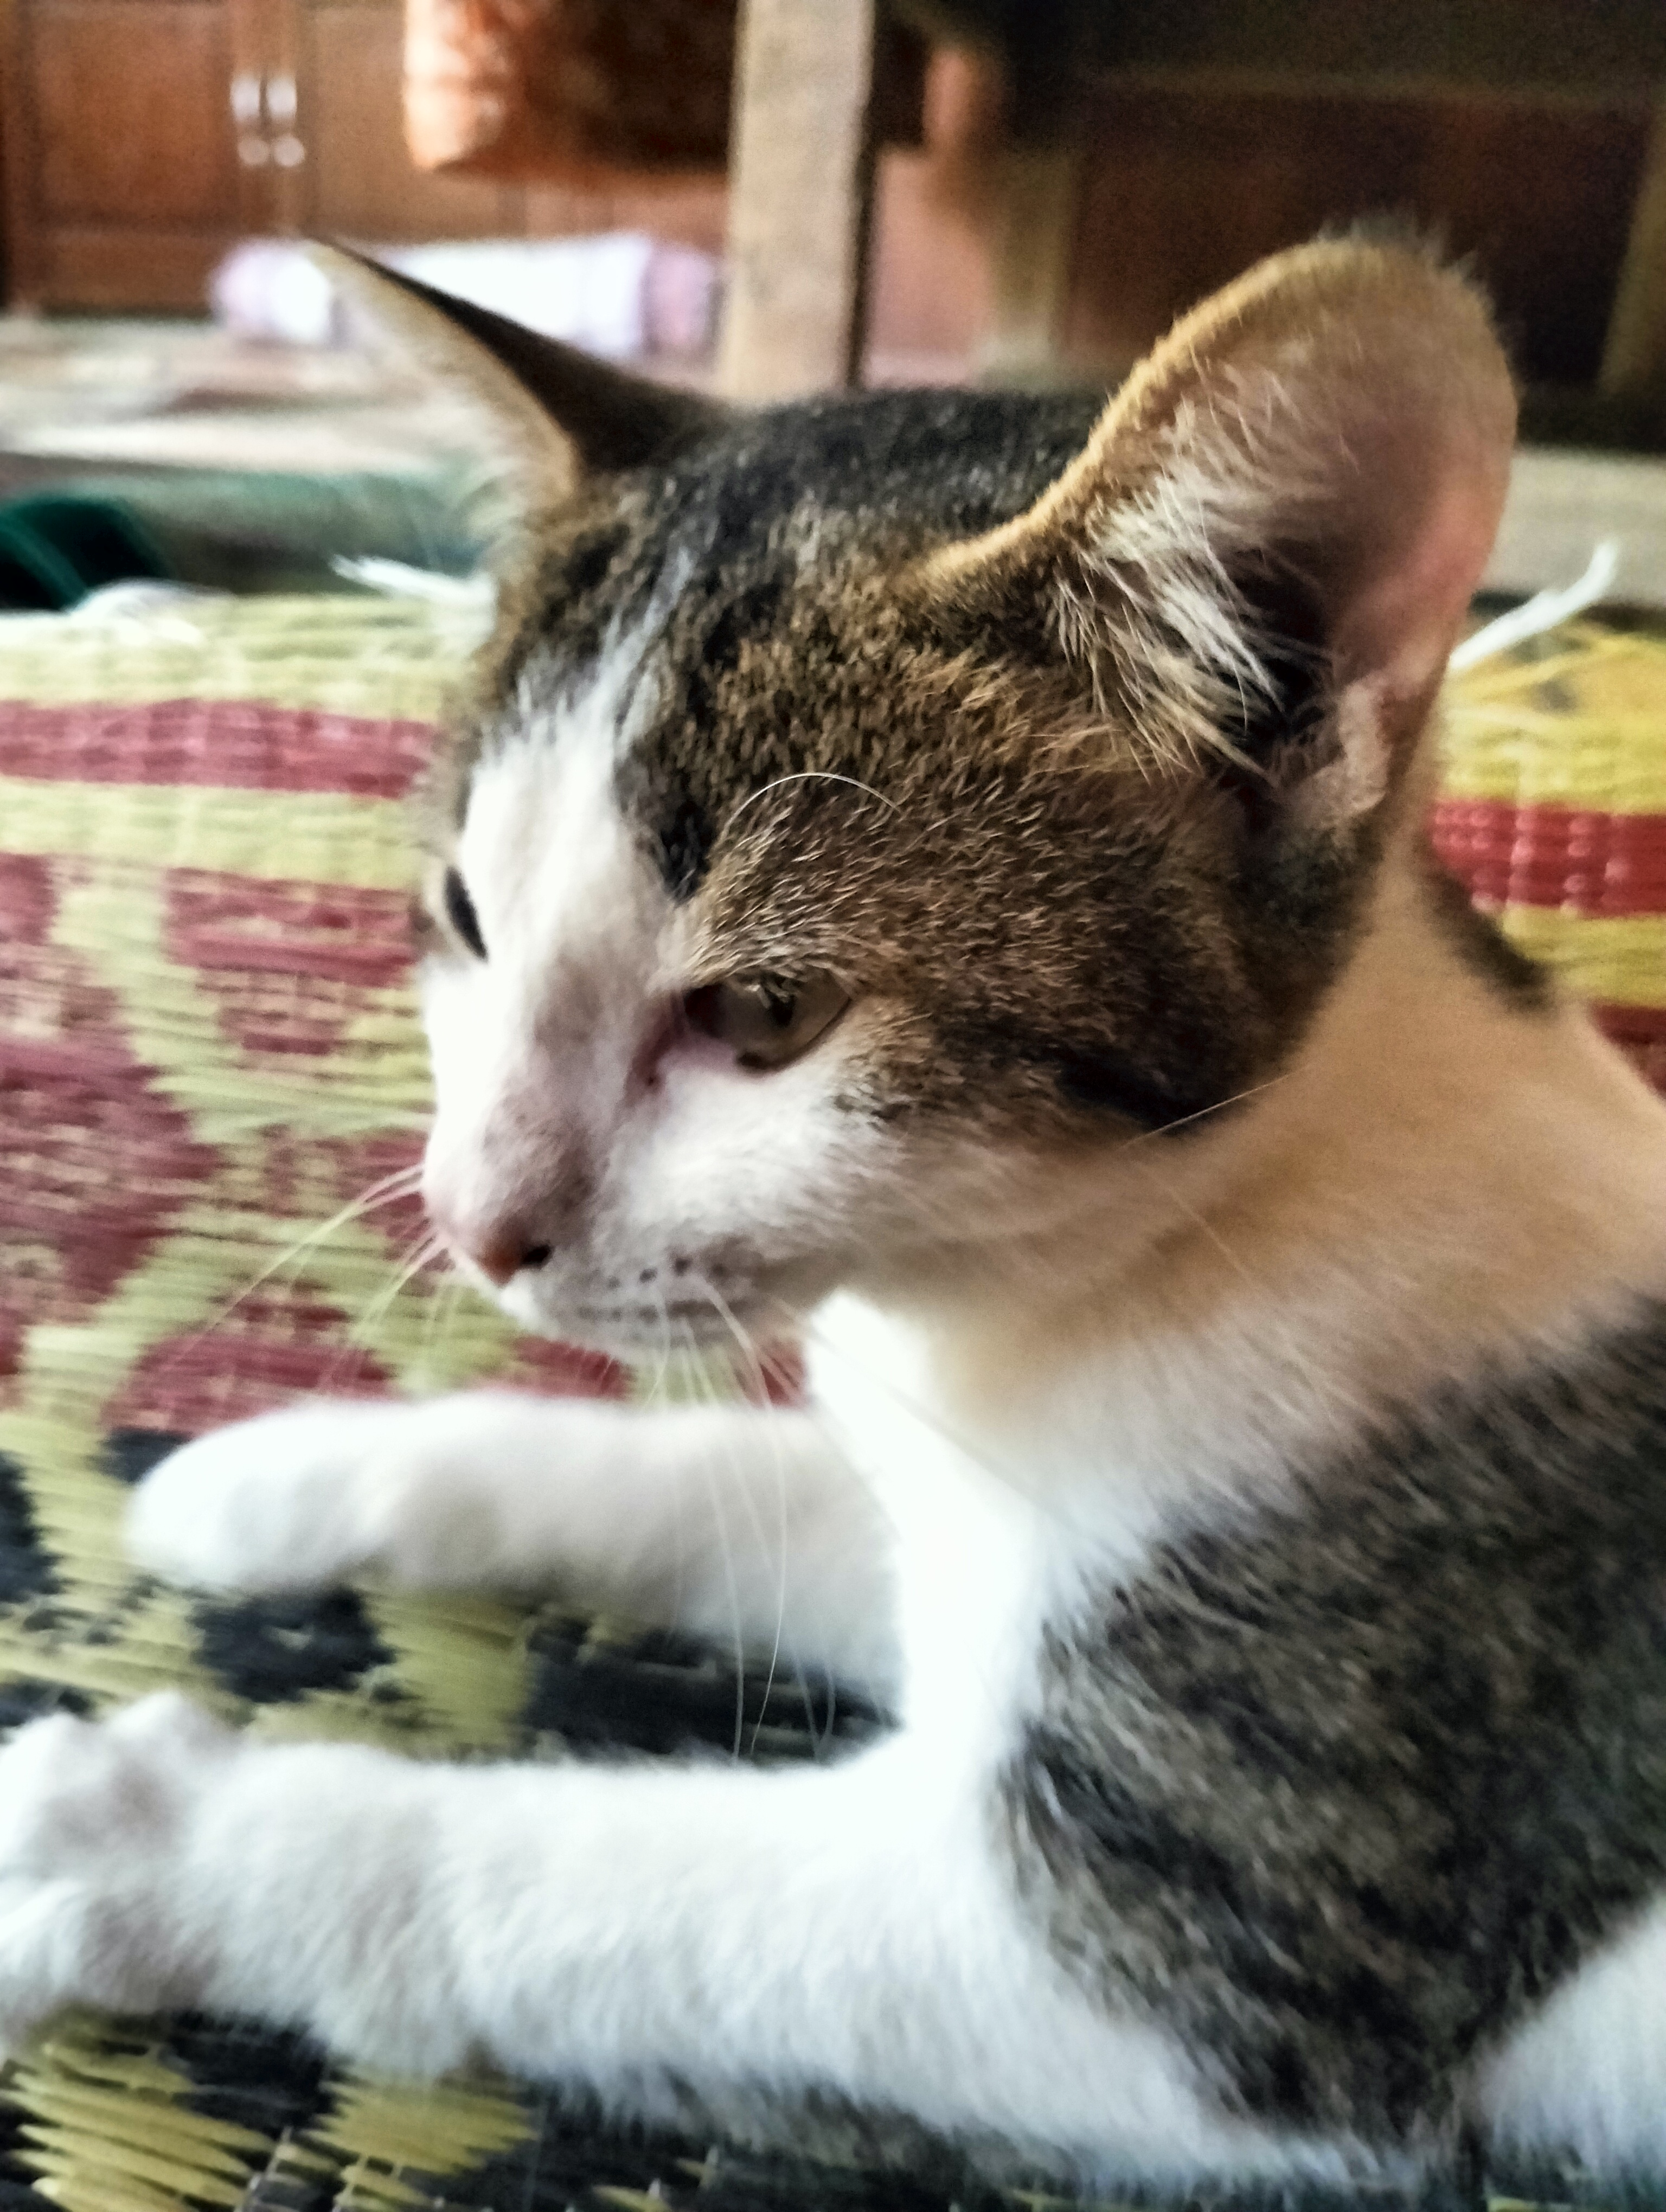miki: (259, 175, 1536, 1395)
